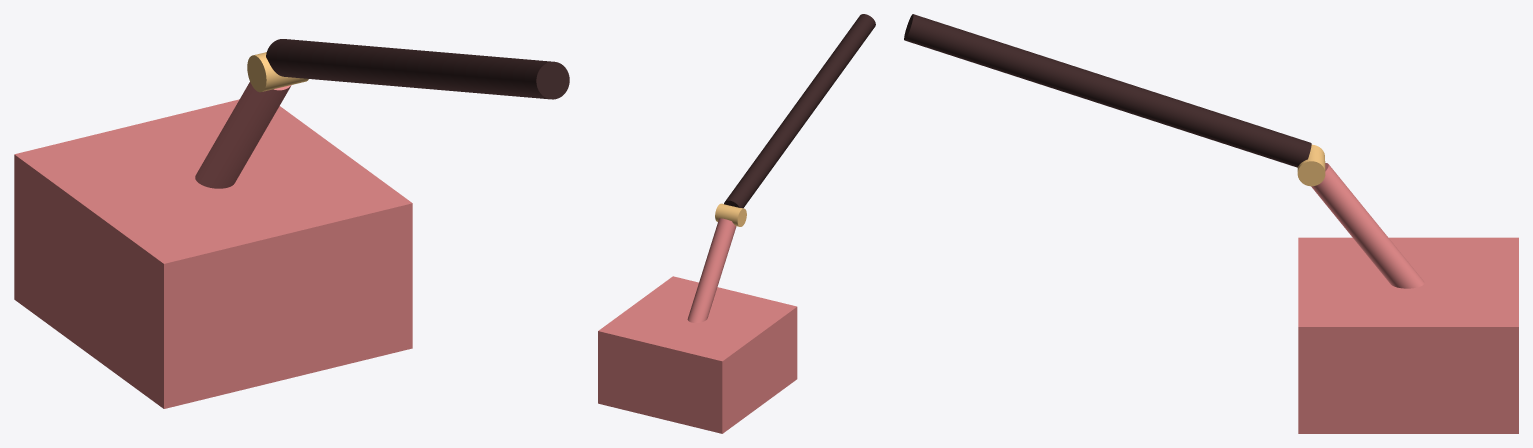
3 views of the same model, side by side, from view 1: azimuth 30°, elevation 25°; view 2: azimuth 150°, elevation 25°; view 3: azimuth 270°, elevation 25° (orthographic). The views are drawn at different scales.
Visible parts, largest first — view 1: ID5, ID32, ID23, ID14; view 2: ID5, ID32, ID23, ID14; view 3: ID5, ID32, ID23, ID14.
Boxes of the visible parts, <box> form: ID5: <box>14,99,412,408</box>; ID32: <box>266,39,569,99</box>; ID23: <box>195,82,291,188</box>; ID14: <box>247,52,308,92</box>; ID5: <box>598,276,797,433</box>; ID32: <box>724,14,875,208</box>; ID23: <box>687,218,736,322</box>; ID14: <box>715,203,746,226</box>; ID5: <box>1298,237,1518,433</box>; ID32: <box>904,14,1311,167</box>; ID23: <box>1311,163,1424,288</box>; ID14: <box>1297,144,1325,186</box>.
Bounding box in the file's own units: 200 × 390 × 582.
